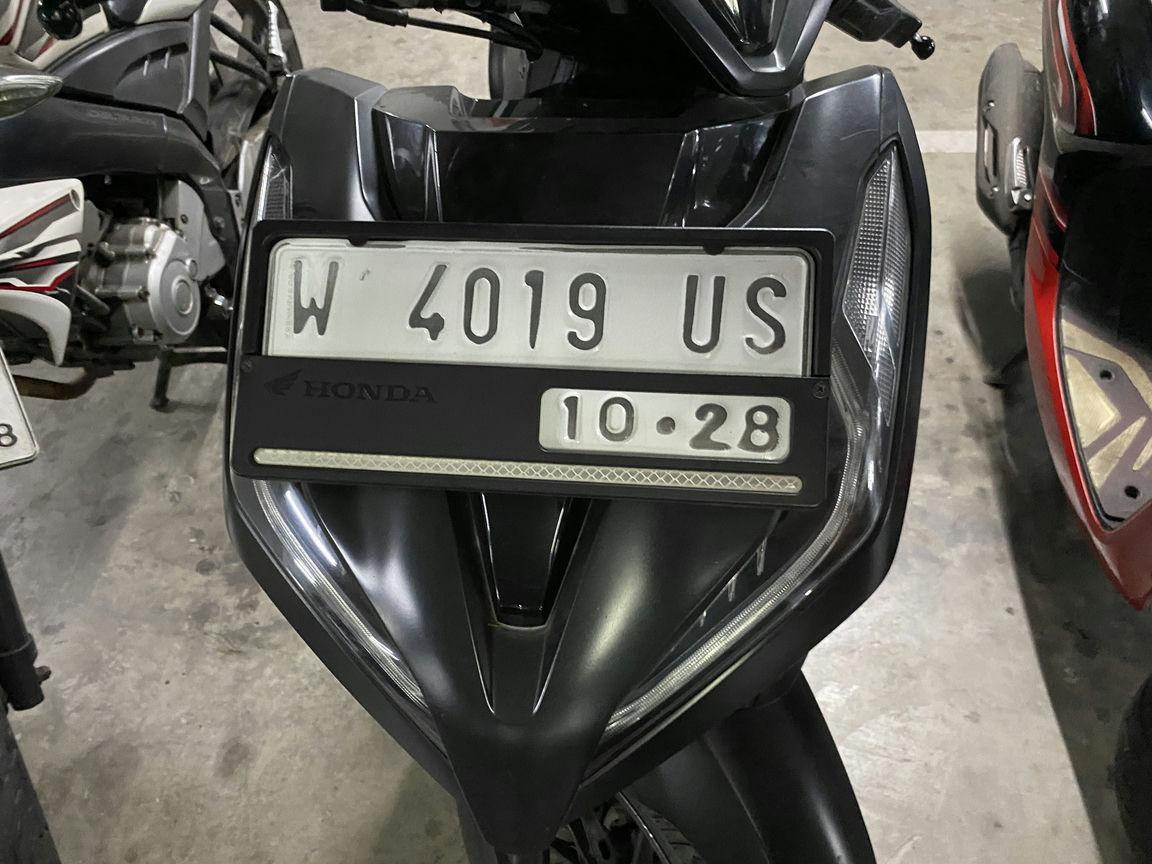plat: (232, 220, 832, 506)
